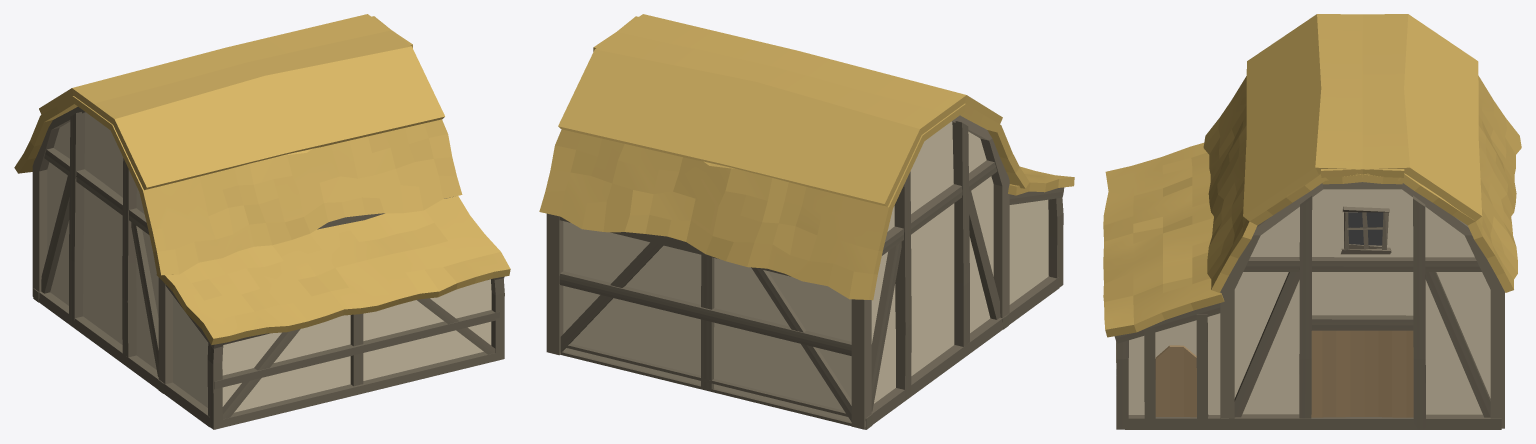
The model's file is Grange.fbx.
3 views of the same model, side by side, from view 1: azimuth 30°, elevation 25°; view 2: azimuth 150°, elevation 25°; view 3: azimuth 270°, elevation 25° (orthographic). The views are drawn at different scales.
Visible parts, largest first — view 1: Cube.169; view 2: Cube.169; view 3: Cube.169.
Part boxes in pixels (x1=…): Cube.169: x1=14, y1=14, x2=510, y2=429; Cube.169: x1=539, y1=14, x2=1074, y2=429; Cube.169: x1=1103, y1=14, x2=1521, y2=429.
Size of the model in its own units: 976 by 757 by 1078.
